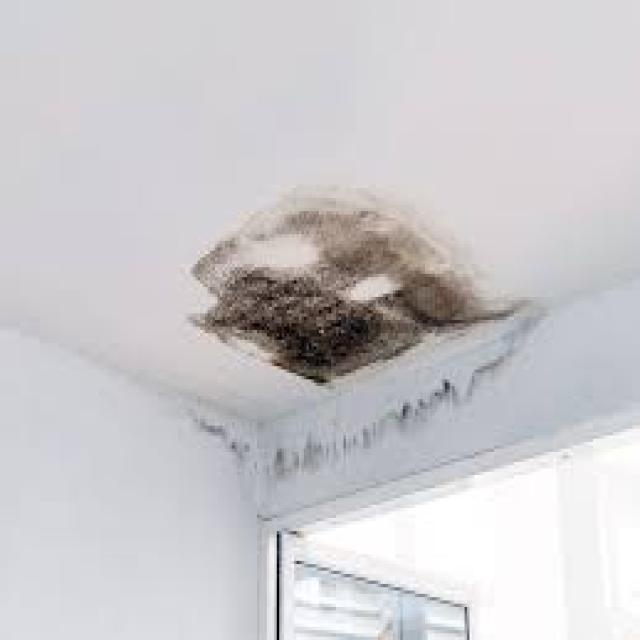stain_mould: (187, 183, 549, 512)
